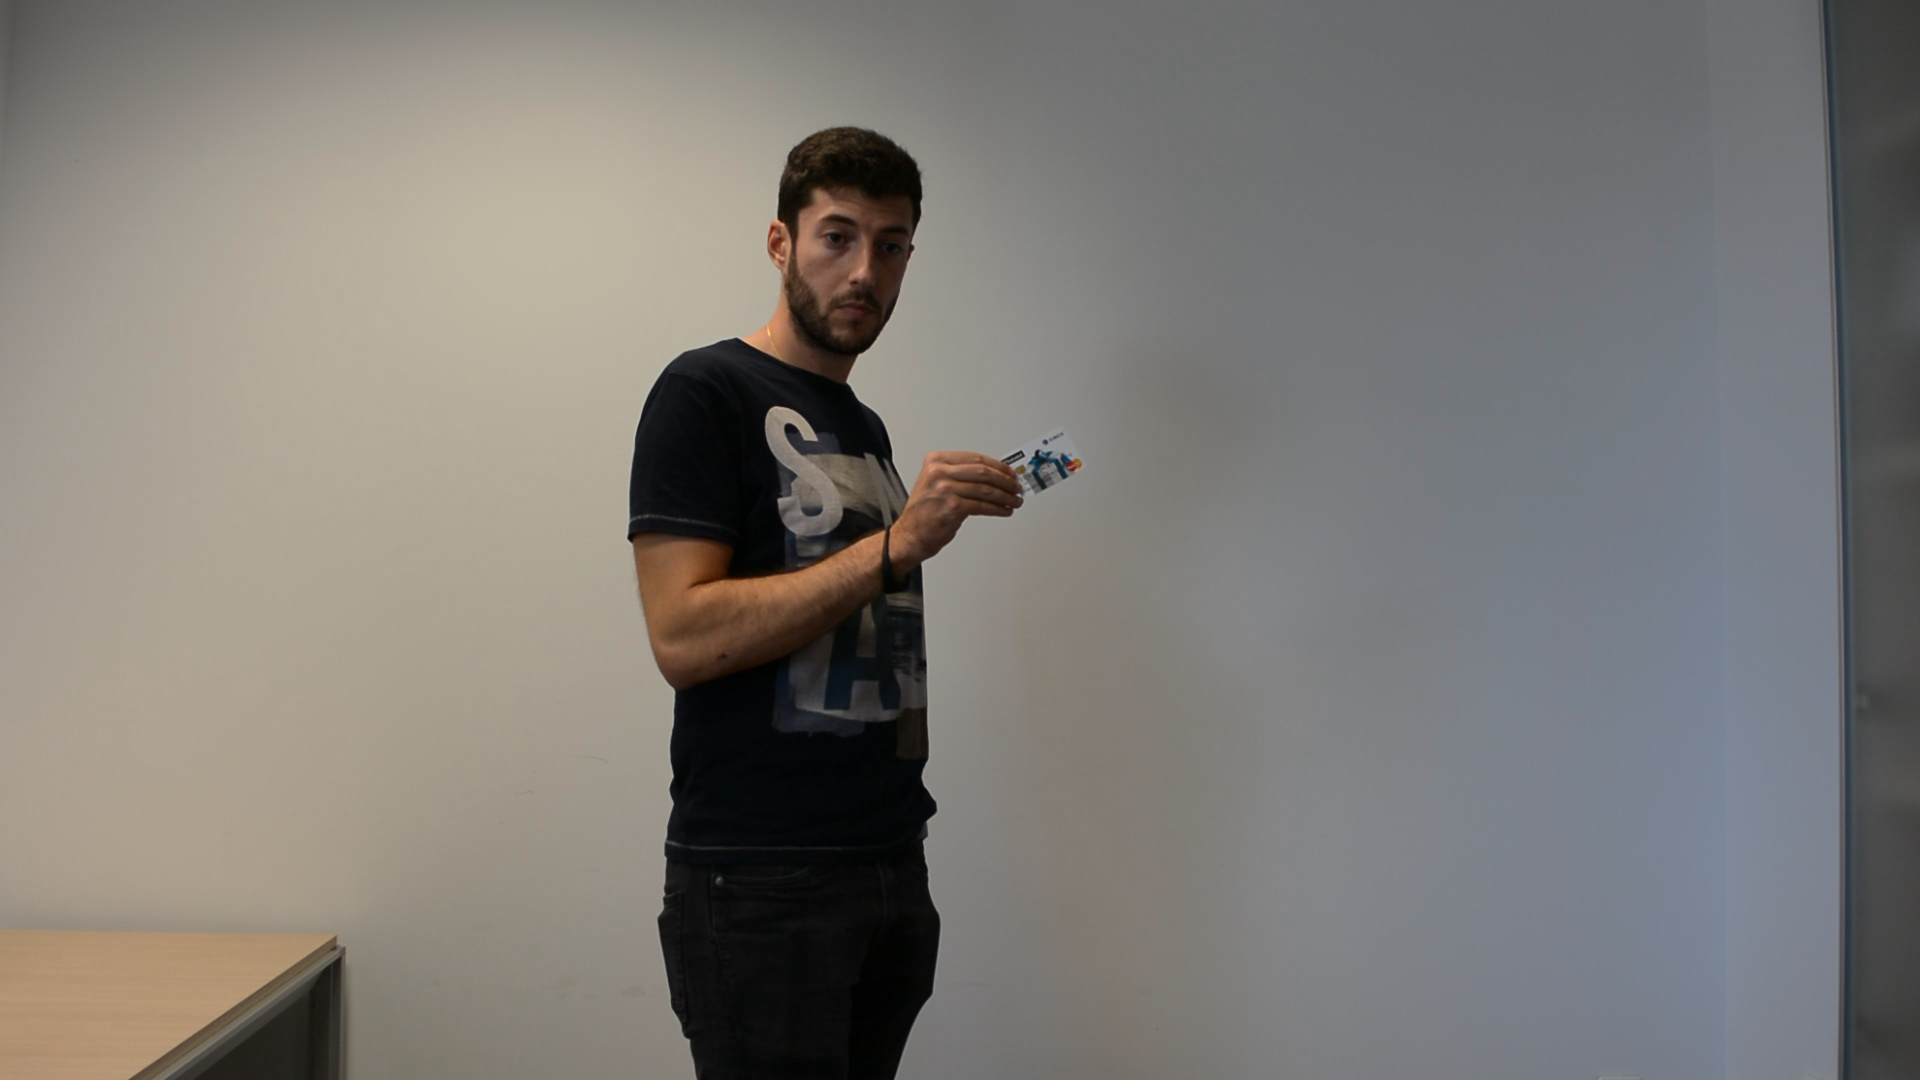tarjeta: (997, 425, 1091, 502)
